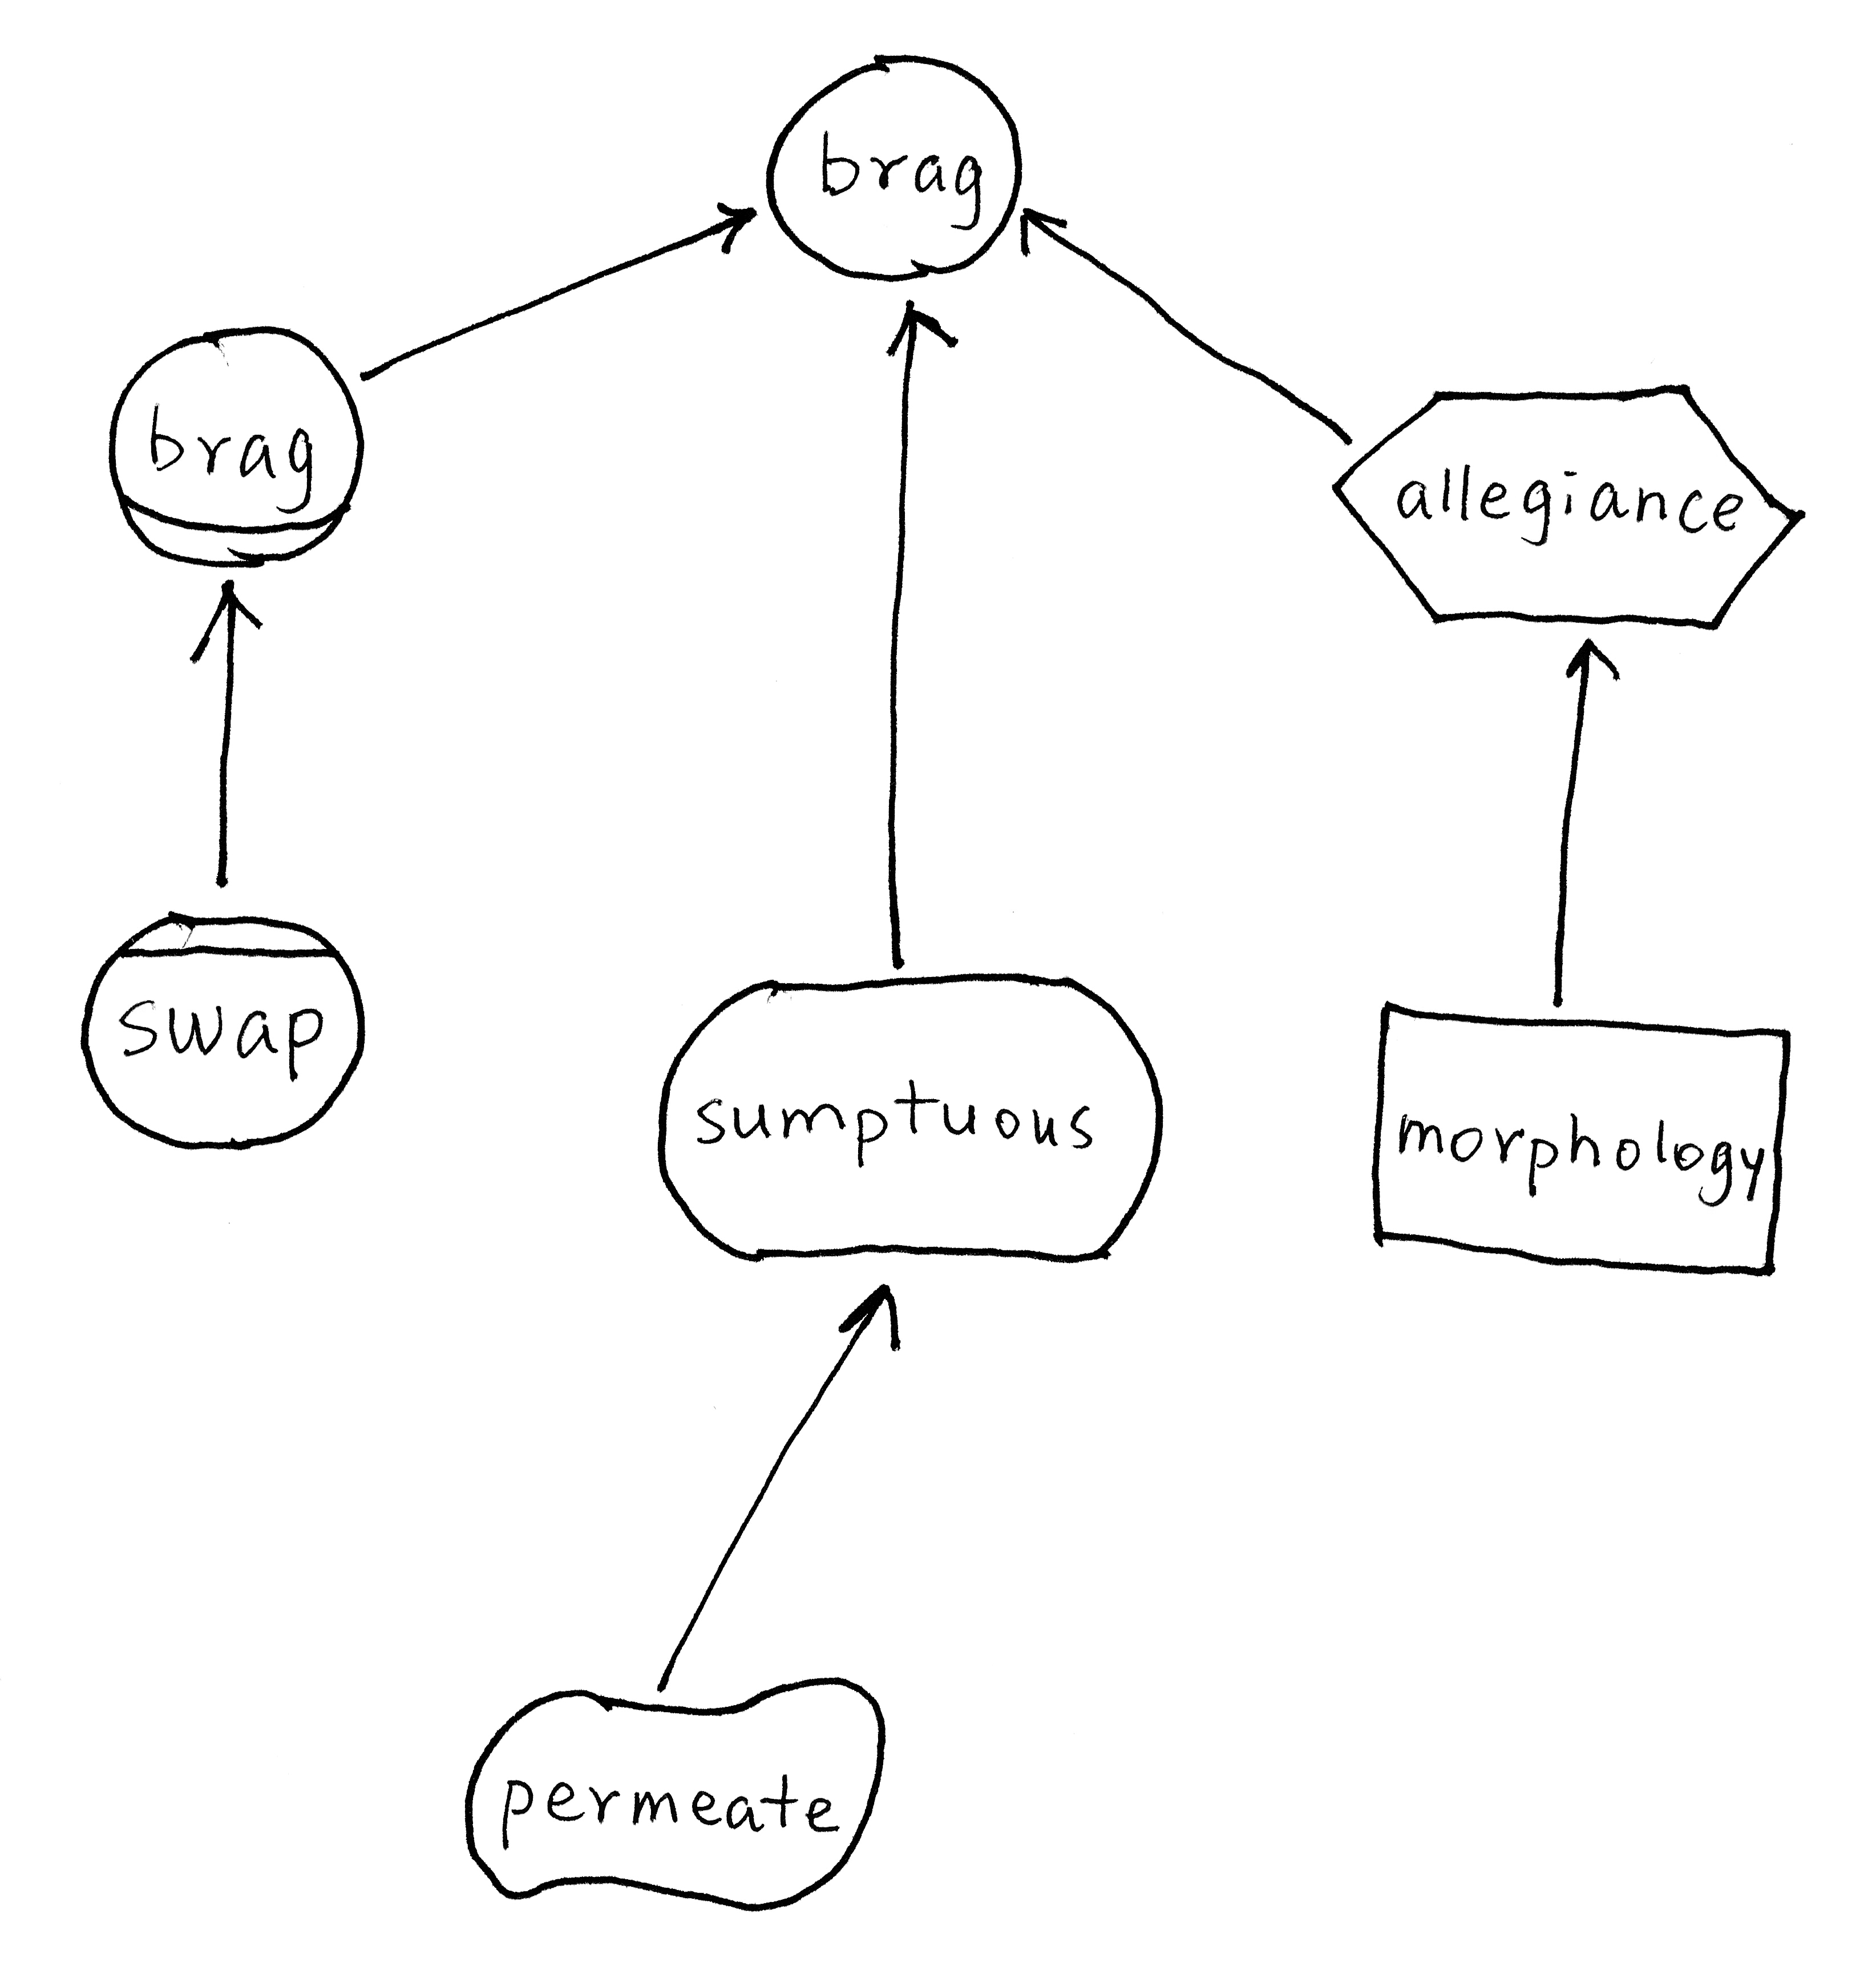actor: (744, 34, 1051, 302)
agent: (60, 896, 388, 1173)
arrow: (182, 571, 277, 695), (823, 1272, 936, 1367), (875, 287, 966, 367), (1536, 626, 1631, 697), (698, 189, 771, 280), (1014, 189, 1072, 282)
quality: (434, 1654, 896, 1919)
resource: (1331, 984, 1816, 1302)
role: (88, 305, 384, 596)
task: (631, 958, 1188, 1280), (1317, 365, 1830, 661)
